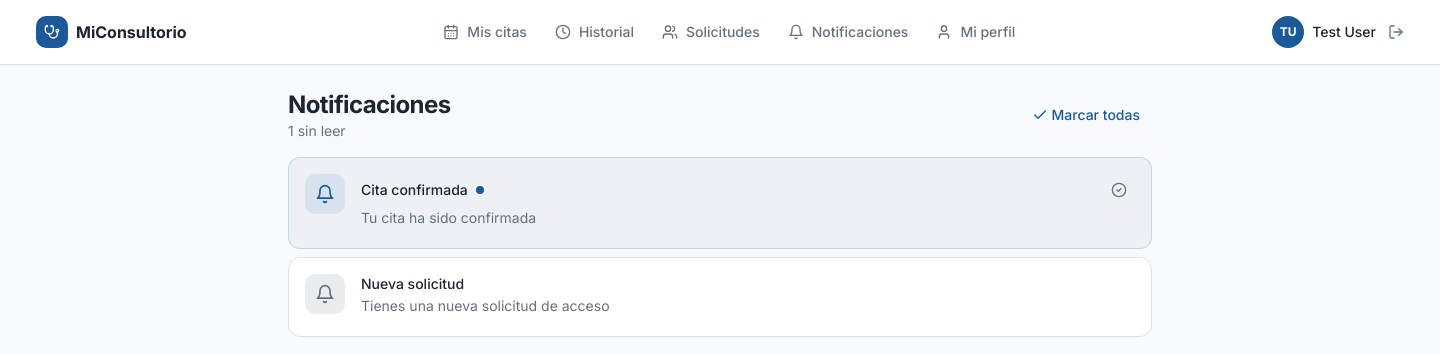
Test: PatientNotificationsPage Integration › should mark individual notification as read
Expected: the text "Cita confirmada" is shown, 361,180 -> 468,200
Click the button titled "Marcar como leída" at (1119, 190), box 1103,174 -> 1135,206
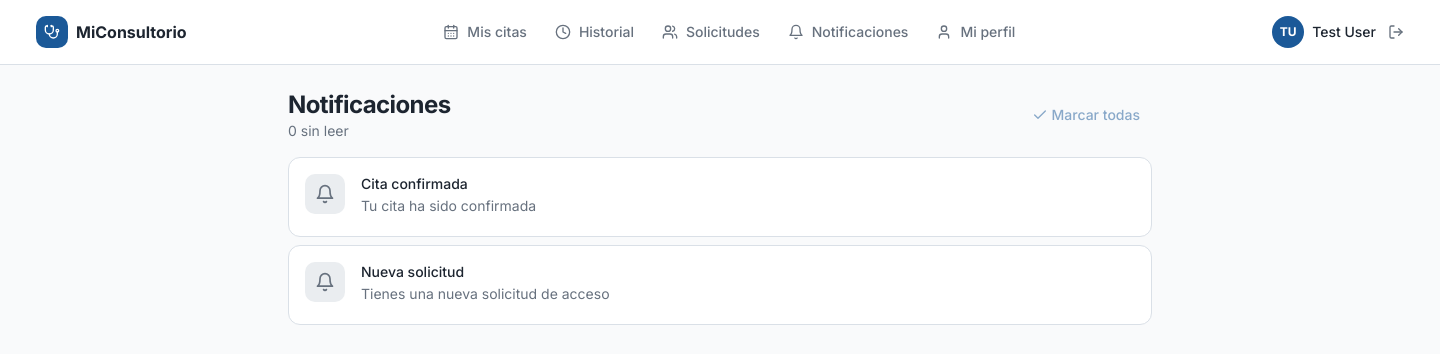
Expected: the text "0 sin leer" is shown, 288,122 -> 349,139
